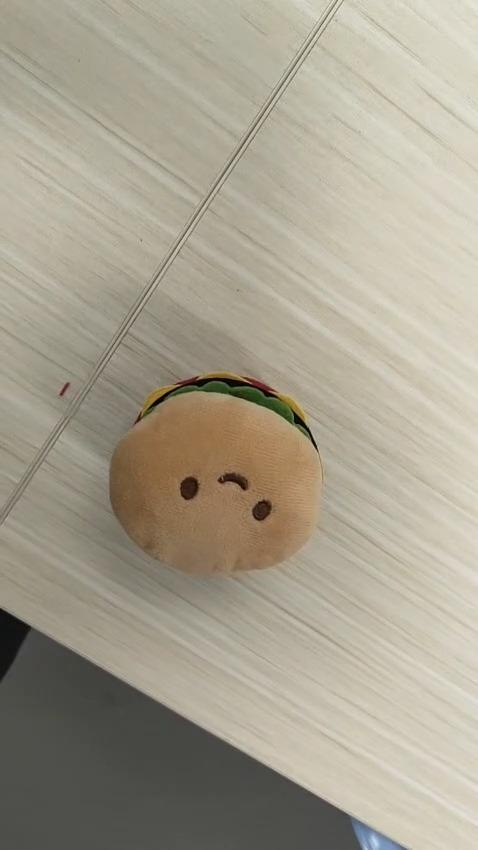hamburger: (107, 369, 323, 577)
